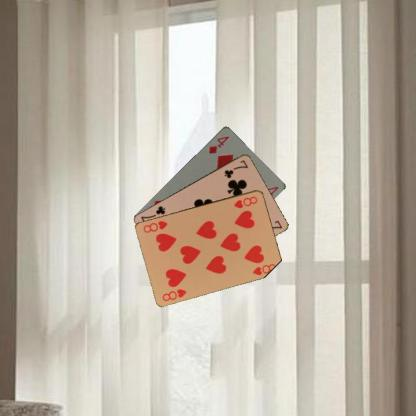4d: (206, 133, 231, 155)
7c: (222, 157, 249, 179)
8h: (160, 286, 188, 302), (231, 194, 259, 209)
